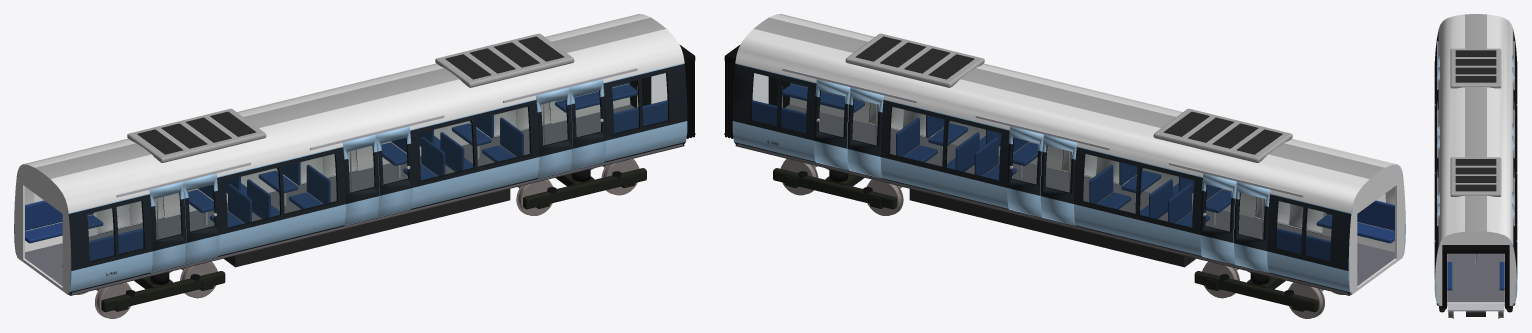
Rendered from mf19_car.glb.
The picture shows the model from 3 angles, left to right: view 1: azimuth 30°, elevation 25°; view 2: azimuth 150°, elevation 25°; view 3: azimuth 270°, elevation 25°; orthographic projection. The views are drawn at different scales.
Visible parts, largest first — view 1: METRO_MF19_L10-Confort-5voit_V2_Caisse, METRO_MF19_L10-Confort-5voit_V2_BaieG1, METRO_MF19_L10-Confort-5voit_V2_PorteD3_AV.002, METRO_MF19_L10-Confort-5voit_V2_PorteD1_AV.002, METRO_MF19_L10-Confort-5voit_V2_PorteD2_AV.002, METRO_MF19_L10-Confort-5voit_V2_PorteD3_AR.002, METRO_MF19_L10-Confort-5voit_V2_PorteD2_AR.002, METRO_MF19_L10-Confort-5voit_V2_PorteD1_AR.002, METRO_MF19_L10-Confort-5voit_V2_PorteD2_AV_Vitre, METRO_MF19_L10-Confort-5voit_V2_PorteD3_AR_Vitre, METRO_MF19_L10-Confort-5voit_V2_PorteD1_AV_Vitre, METRO_MF19_L10-Confort-5voit_V2_PorteD3_AV_Vitre (+4 smaller); view 2: METRO_MF19_L10-Confort-5voit_V2_Caisse, METRO_MF19_L10-Confort-5voit_V2_BaieG1, METRO_MF19_L10-Confort-5voit_V2_PorteG3_AV.002, METRO_MF19_L10-Confort-5voit_V2_PorteG1_AV.002, METRO_MF19_L10-Confort-5voit_V2_PorteG2_AV.002, METRO_MF19_L10-Confort-5voit_V2_PorteG3_AR.002, METRO_MF19_L10-Confort-5voit_V2_PorteG2_AR.002, METRO_MF19_L10-Confort-5voit_V2_PorteG1_AR.002, METRO_MF19_L10-Confort-5voit_V2_PorteG2_AV_Vitre, METRO_MF19_L10-Confort-5voit_V2_PorteG3_AR_Vitre, METRO_MF19_L10-Confort-5voit_V2_PorteG1_AV_Vitre, METRO_MF19_L10-Confort-5voit_V2_PorteG3_AV_Vitre (+4 smaller); view 3: METRO_MF19_L10-Confort-5voit_V2_Caisse, METRO_MF19_L10-Confort-5voit_V2_BaieG1, METRO_MF19_L10-Confort-5voit_V2_PorteG2_AR.002, METRO_MF19_L10-Confort-5voit_V2_PorteD2_AR.002, METRO_MF19_L10-Confort-5voit_V2_PorteG3_AR.002, METRO_MF19_L10-Confort-5voit_V2_PorteD3_AR.002, METRO_MF19_L10-Confort-5voit_V2_PorteG1_AR.002, METRO_MF19_L10-Confort-5voit_V2_PorteG3_AV.002, METRO_MF19_L10-Confort-5voit_V2_PorteD1_AR.002, METRO_MF19_L10-Confort-5voit_V2_PorteD3_AV.002, METRO_MF19_L10-Confort-5voit_V2_PorteG2_AV.002, METRO_MF19_L10-Confort-5voit_V2_PorteD2_AV.002 (+2 smaller).
Part boxes in pixels (<box>): METRO_MF19_L10-Confort-5voit_V2_Caisse: <box>14,14,695,318</box>; METRO_MF19_L10-Confort-5voit_V2_BaieG1: <box>34,73,668,261</box>; METRO_MF19_L10-Confort-5voit_V2_PorteD3_AV.002: <box>183,173,219,264</box>; METRO_MF19_L10-Confort-5voit_V2_PorteD1_AV.002: <box>569,79,605,170</box>; METRO_MF19_L10-Confort-5voit_V2_PorteD2_AV.002: <box>376,126,412,217</box>; METRO_MF19_L10-Confort-5voit_V2_PorteD3_AR.002: <box>149,181,185,272</box>; METRO_MF19_L10-Confort-5voit_V2_PorteD2_AR.002: <box>342,134,379,225</box>; METRO_MF19_L10-Confort-5voit_V2_PorteD1_AR.002: <box>536,87,572,178</box>; METRO_MF19_L10-Confort-5voit_V2_PorteD2_AV_Vitre: <box>381,138,407,183</box>; METRO_MF19_L10-Confort-5voit_V2_PorteD3_AR_Vitre: <box>155,193,180,239</box>; METRO_MF19_L10-Confort-5voit_V2_PorteD1_AV_Vitre: <box>575,91,600,136</box>; METRO_MF19_L10-Confort-5voit_V2_PorteD3_AV_Vitre: <box>188,185,214,231</box>; METRO_MF19_L10-Confort-5voit_V2_Caisse: <box>724,14,1405,318</box>; METRO_MF19_L10-Confort-5voit_V2_BaieG1: <box>751,73,1385,261</box>; METRO_MF19_L10-Confort-5voit_V2_PorteG3_AV.002: <box>1200,173,1236,264</box>; METRO_MF19_L10-Confort-5voit_V2_PorteG1_AV.002: <box>814,79,850,170</box>; METRO_MF19_L10-Confort-5voit_V2_PorteG2_AV.002: <box>1007,126,1043,217</box>; METRO_MF19_L10-Confort-5voit_V2_PorteG3_AR.002: <box>1234,181,1270,272</box>; METRO_MF19_L10-Confort-5voit_V2_PorteG2_AR.002: <box>1040,134,1077,225</box>; METRO_MF19_L10-Confort-5voit_V2_PorteG1_AR.002: <box>847,87,883,178</box>; METRO_MF19_L10-Confort-5voit_V2_PorteG2_AV_Vitre: <box>1012,138,1038,183</box>; METRO_MF19_L10-Confort-5voit_V2_PorteG3_AR_Vitre: <box>1239,193,1264,239</box>; METRO_MF19_L10-Confort-5voit_V2_PorteG1_AV_Vitre: <box>819,91,844,136</box>; METRO_MF19_L10-Confort-5voit_V2_PorteG3_AV_Vitre: <box>1205,185,1231,231</box>; METRO_MF19_L10-Confort-5voit_V2_Caisse: <box>1434,14,1517,318</box>; METRO_MF19_L10-Confort-5voit_V2_BaieG1: <box>1436,97,1515,233</box>; METRO_MF19_L10-Confort-5voit_V2_PorteG2_AR.002: <box>1512,123,1517,181</box>; METRO_MF19_L10-Confort-5voit_V2_PorteD2_AR.002: <box>1434,123,1439,181</box>; METRO_MF19_L10-Confort-5voit_V2_PorteG3_AR.002: <box>1512,55,1517,112</box>; METRO_MF19_L10-Confort-5voit_V2_PorteD3_AR.002: <box>1434,55,1439,112</box>; METRO_MF19_L10-Confort-5voit_V2_PorteG1_AR.002: <box>1512,191,1517,237</box>; METRO_MF19_L10-Confort-5voit_V2_PorteG3_AV.002: <box>1512,67,1517,130</box>; METRO_MF19_L10-Confort-5voit_V2_PorteD1_AR.002: <box>1434,191,1439,237</box>; METRO_MF19_L10-Confort-5voit_V2_PorteD3_AV.002: <box>1434,67,1439,130</box>; METRO_MF19_L10-Confort-5voit_V2_PorteG2_AV.002: <box>1512,135,1517,198</box>; METRO_MF19_L10-Confort-5voit_V2_PorteD2_AV.002: <box>1434,135,1439,198</box>.
Size of the model in its own units: 15.65 by 3.51 by 2.46.
Materials: 5 (5 with a texture image).
